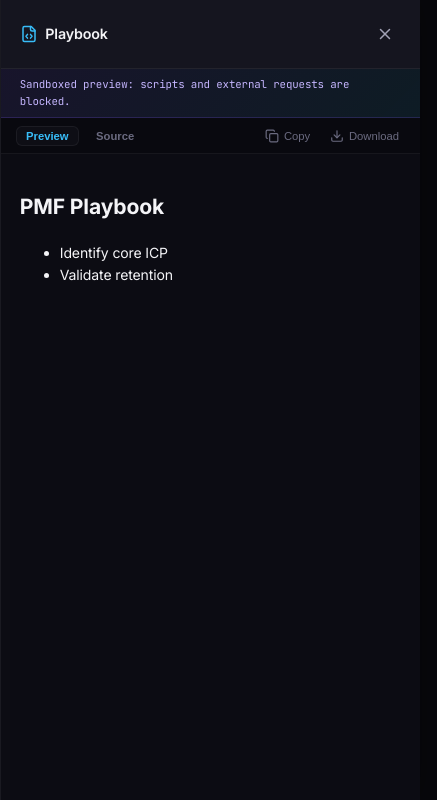
Test: ArtifactPanel Component & Security Sandbox (Phase 7) › 4. Tab Switching: Preview vs Source › switches to Source tab and displays raw text in pre element
Click the button "Source" at (115,136), box 86,126 -> 144,146
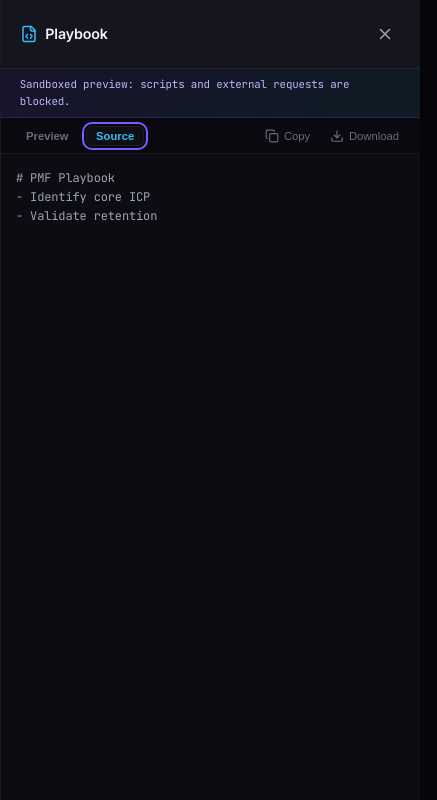
Expected: the text "# PMF Playbook - Identify core ICP - Validate retention" is shown, 16,170 -> 157,224
